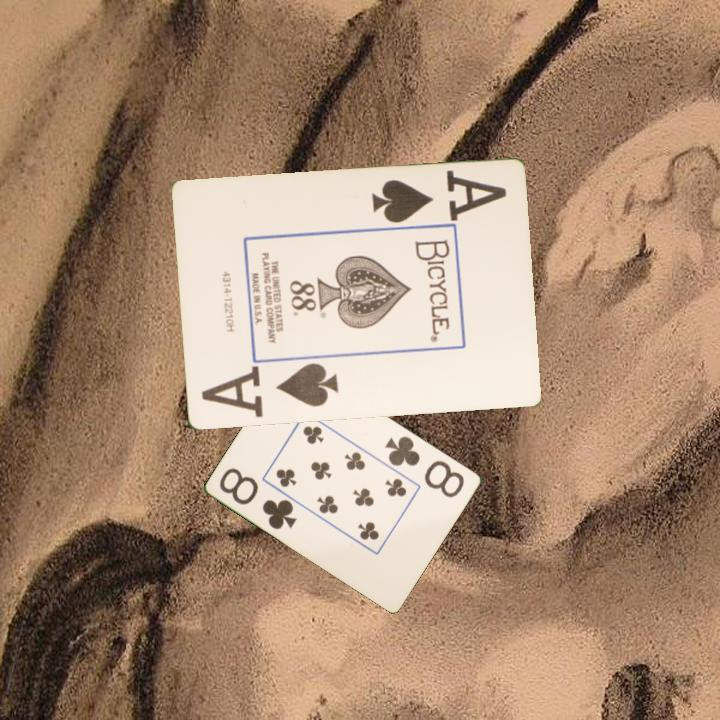8c: (382, 432, 468, 501), (216, 464, 300, 532)
As: (367, 167, 509, 226), (211, 360, 341, 410)
